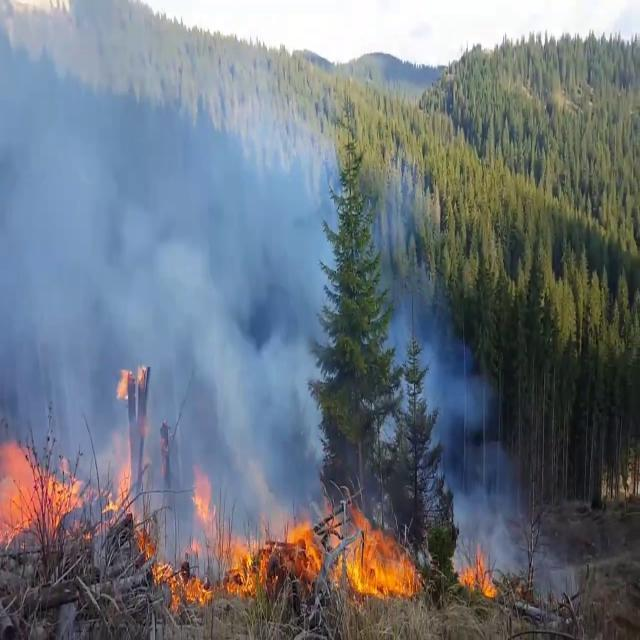Fire: (148, 520, 270, 610), (0, 425, 78, 547), (337, 513, 423, 603), (457, 538, 499, 602)
Smoke: (0, 1, 334, 562), (382, 251, 494, 496)
